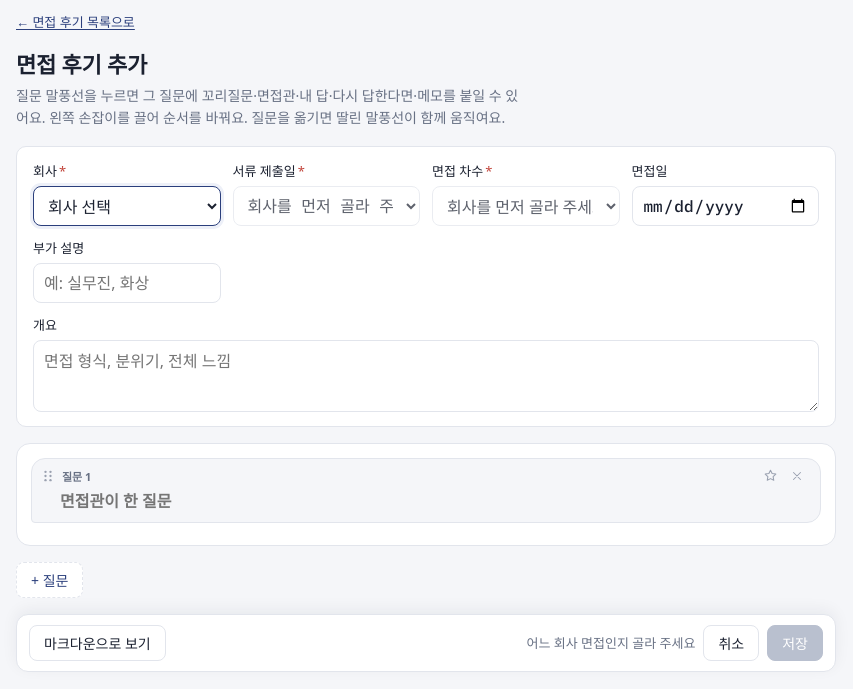
ReviewEditScreen › ignores a late answer for a company the user already left
Step 1. Select "바른정보" in the dropdown labelled "회사*" → {"x": 127, "y": 206}, box [33, 186, 220, 226]
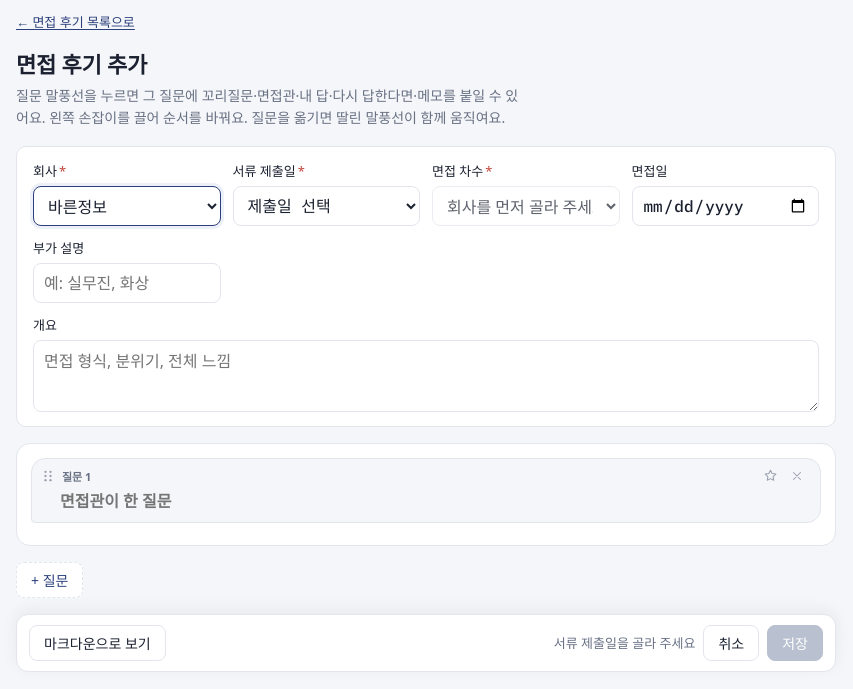
Step 2. Select "라온소프트" in the dropdown labelled "회사*" → {"x": 127, "y": 206}, box [33, 186, 220, 226]
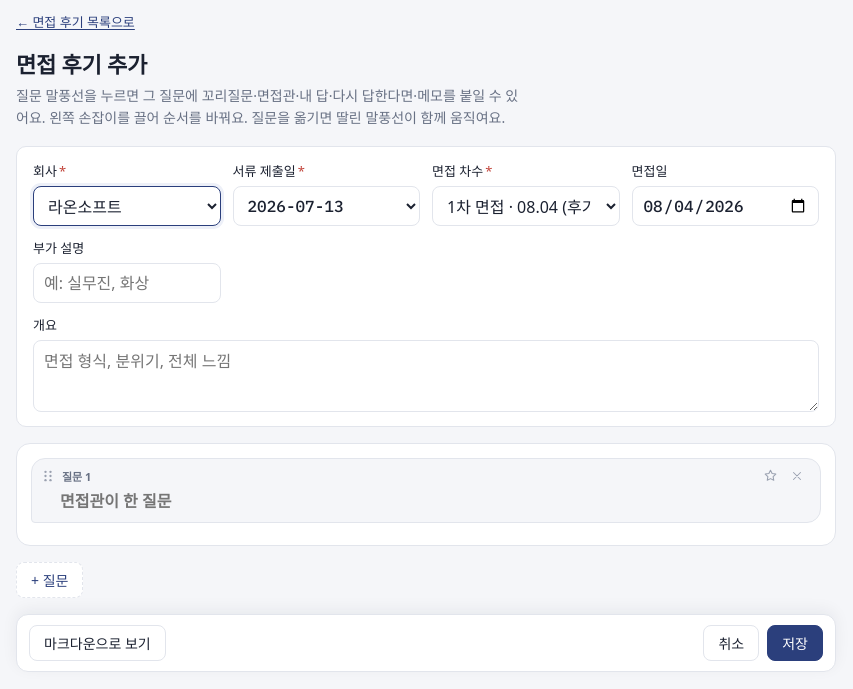
Expected: the dropdown labelled "서류 제출일*" shows "2026-07-13", [232, 186, 420, 226]
Expected: the dropdown labelled "면접 차수*" shows "1차 면접 · 08.04 (후기 있음)", [432, 186, 620, 226]
Expected: the date field labelled "면접일" holds "2026-08-04", [632, 186, 819, 226]
